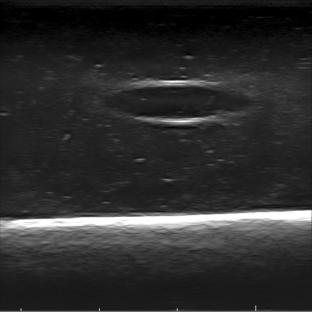vessel: (106, 78, 253, 126)
